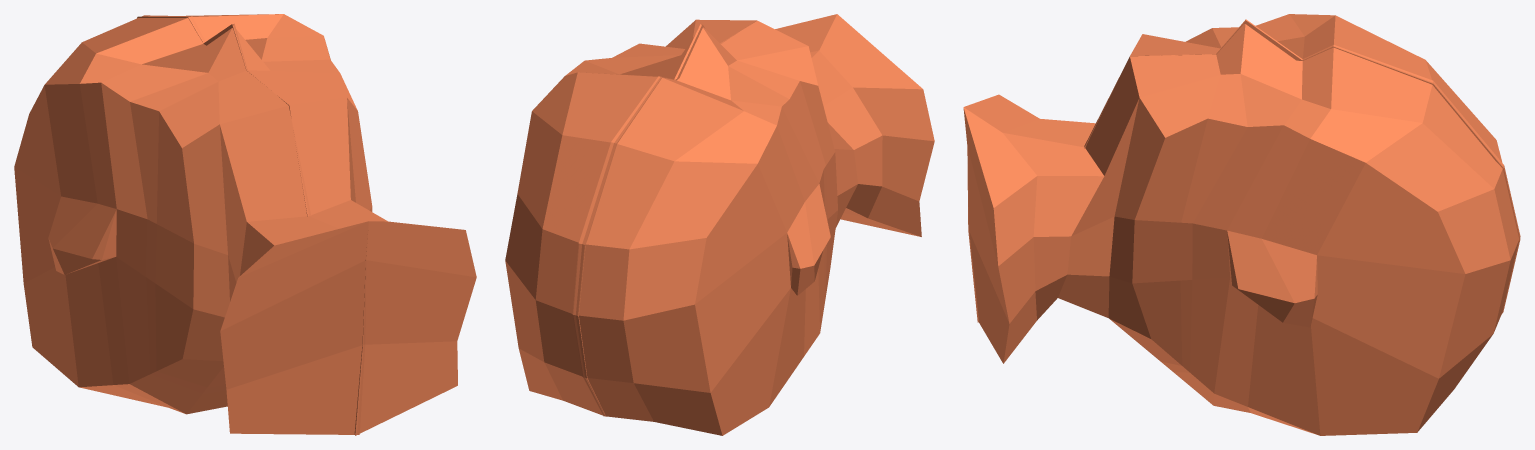
The model's file is hoofdje.obj.
3 views of the same model, side by side, from view 1: azimuth 30°, elevation 25°; view 2: azimuth 150°, elevation 25°; view 3: azimuth 270°, elevation 25° (orthographic). The views are drawn at different scales.
Visible parts, largest first — view 1: Cube.001; view 2: Cube.001; view 3: Cube.001.
Part boxes in pixels (box(x1,y1,x2,y2)): Cube.001: box(14, 14, 476, 435); Cube.001: box(505, 14, 934, 435); Cube.001: box(963, 14, 1520, 435).
Bounding box in the file's own units: 0.619 × 0.7742 × 1.01.
